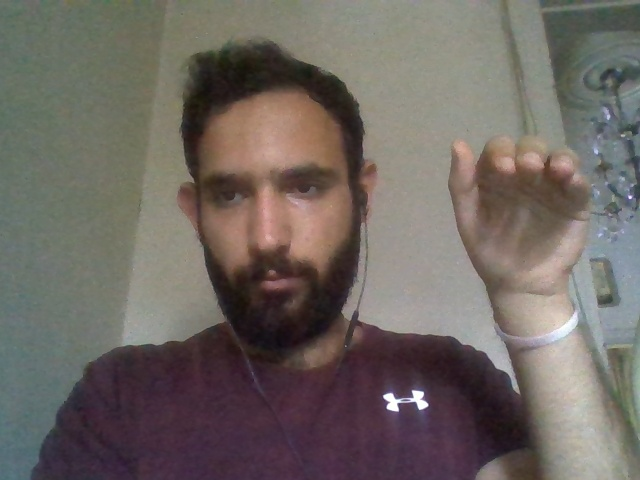Snake: (430, 113, 640, 480)
